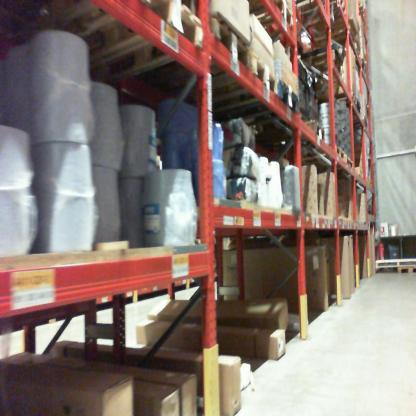pallet: (17, 1, 209, 83), (116, 9, 255, 83), (153, 48, 279, 105), (173, 78, 305, 125), (266, 116, 328, 145), (243, 1, 300, 29), (301, 19, 360, 46), (292, 0, 350, 25), (301, 144, 345, 167), (343, 88, 361, 108), (338, 101, 360, 114), (396, 261, 415, 275), (347, 153, 353, 173)
